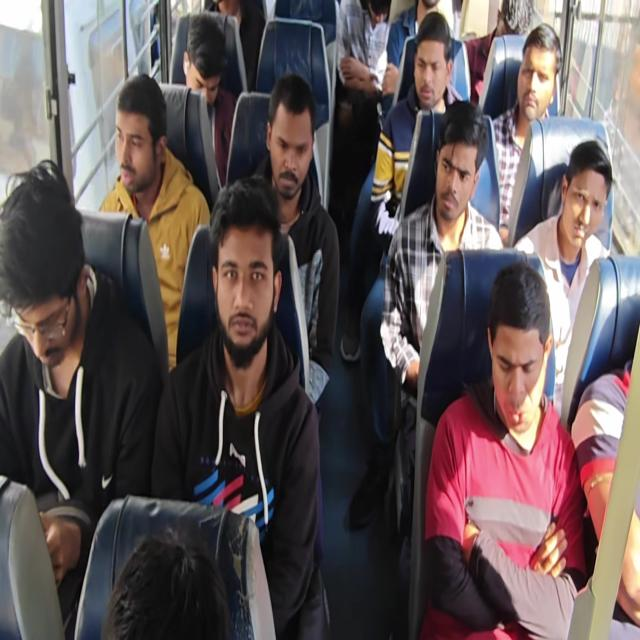person: (5, 190, 86, 386), (104, 543, 215, 640), (474, 300, 544, 429), (215, 209, 268, 349), (110, 97, 156, 196), (270, 96, 314, 197), (177, 25, 221, 99), (561, 158, 597, 237), (516, 35, 550, 117), (439, 136, 471, 208), (411, 41, 445, 100), (487, 0, 532, 43), (360, 0, 396, 33), (412, 0, 452, 12)
